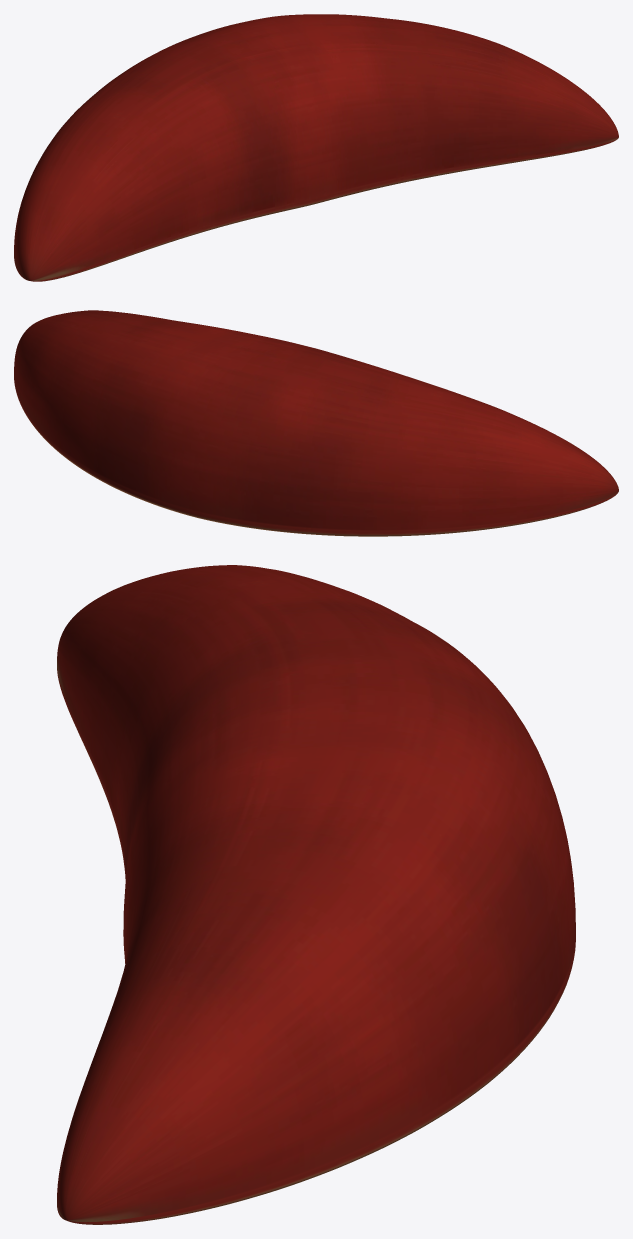
Rendered from jiaobei.glb.
3 renders of one model, top to bottom at view 1: azimuth 30°, elevation 25°; view 2: azimuth 150°, elevation 25°; view 3: azimuth 270°, elevation 25°, orthographic. The views are drawn at different scales.
Visible parts, largest first — view 1: jiaobei; view 2: jiaobei; view 3: jiaobei.
Part boxes in pixels (x1,y1,x2,y2): jiaobei: (14, 14, 618, 281); jiaobei: (14, 310, 618, 536); jiaobei: (57, 565, 575, 1224).
Bounding box in the file's own units: 1.21 × 0.2544 × 0.4588.
Materials: 2 (2 with a texture image).
